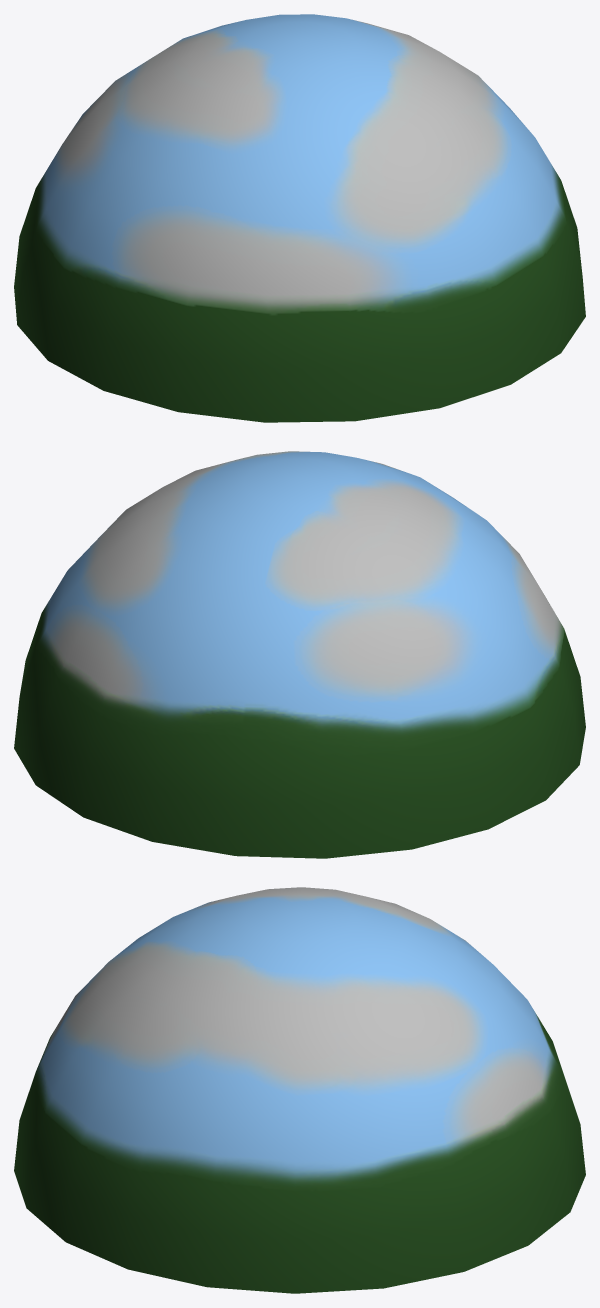
The model's file is Forest.fbx.
The picture shows the model from 3 angles, top to bottom: view 1: azimuth 30°, elevation 25°; view 2: azimuth 150°, elevation 25°; view 3: azimuth 270°, elevation 25°; orthographic projection.
Visible parts, largest first — view 1: GreenSkybox; view 2: GreenSkybox; view 3: GreenSkybox.
Part boxes in pixels (bbox=[...]): GreenSkybox: bbox=[14, 14, 585, 422]; GreenSkybox: bbox=[14, 451, 585, 858]; GreenSkybox: bbox=[14, 887, 585, 1293].
Bounding box in the file's own units: 11998 × 6030 × 11998.
22 materials, 6 textured.
